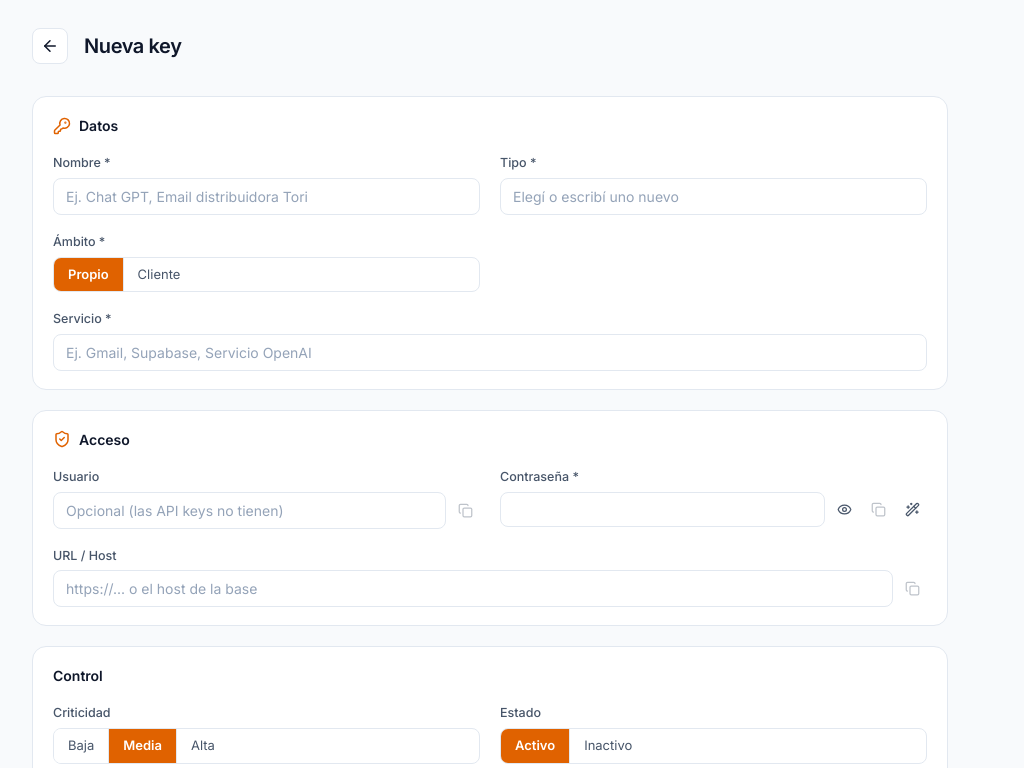
Test: KeyDetalle — alta (admin) › alta completa: guarda, refresca la lista y va a la ficha nueva
In the field labelled "Nombre": (266, 196) [53, 178, 480, 215], type "Chat GPT"
In the field labelled "Tipo": (714, 196) [500, 178, 927, 215], type "API"
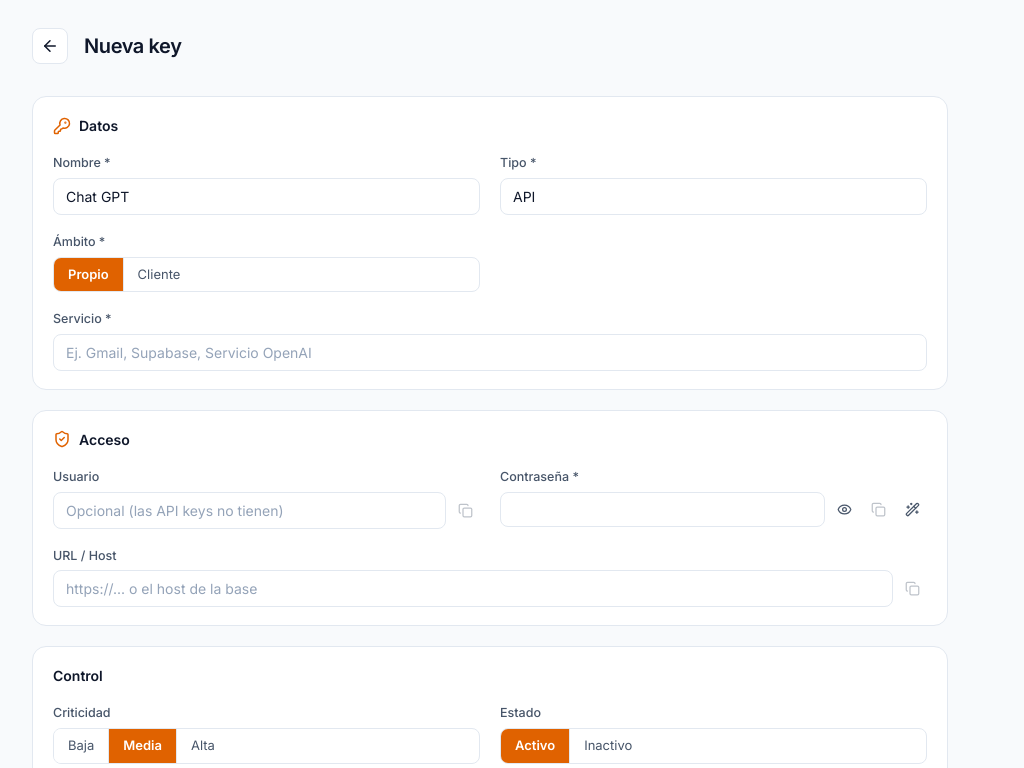
In the field labelled "Servicio": (490, 352) [53, 334, 927, 371], type "OpenAI"
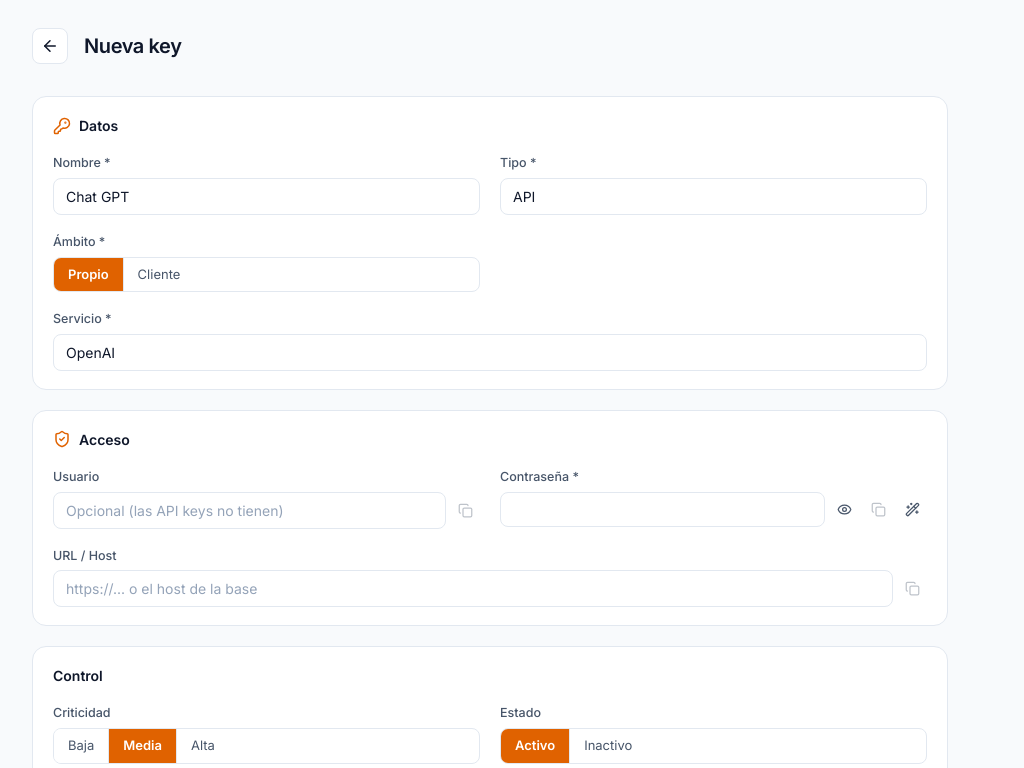
In the password field labelled "Contraseña": (662, 509) [500, 492, 825, 526], type "sk-1"
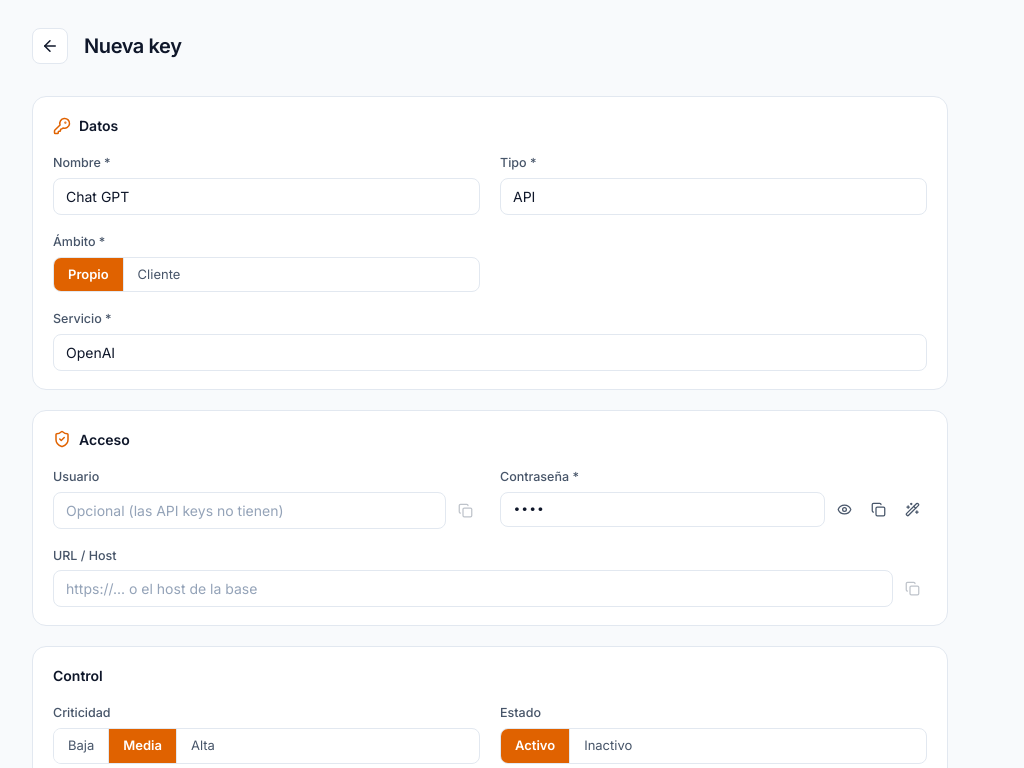
Click the button "Alta": (203, 746) [177, 729, 229, 762]
(page scrolled)
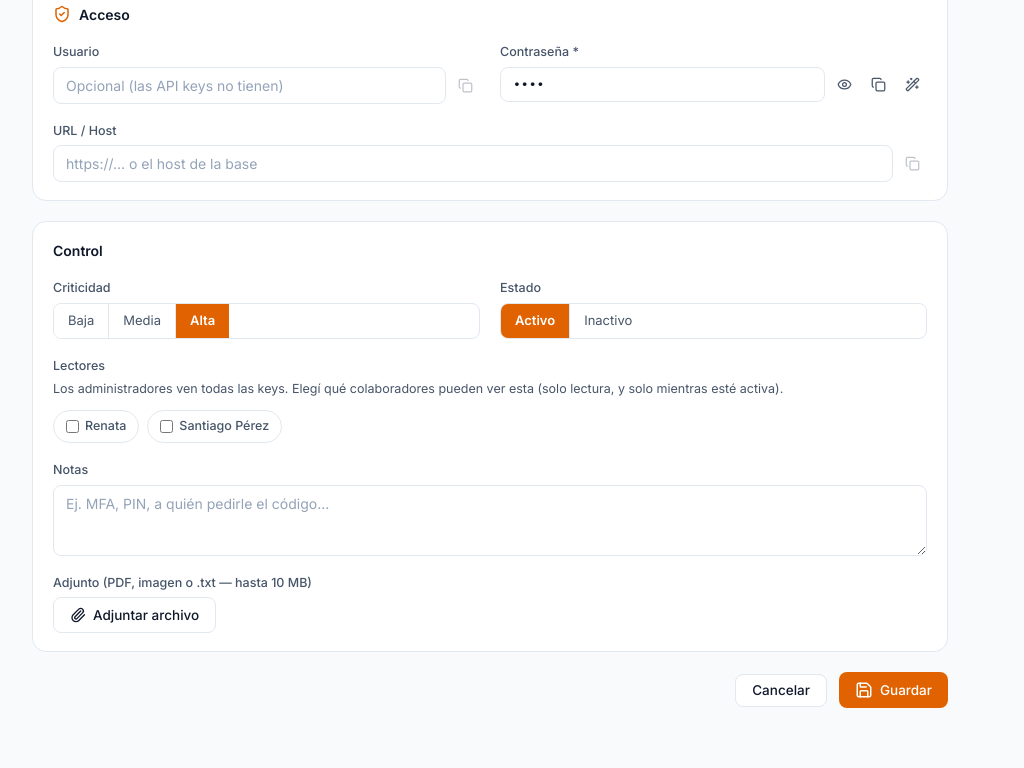
Click the checkbox labelled "Santiago Pérez": (167, 426) [160, 420, 173, 433]
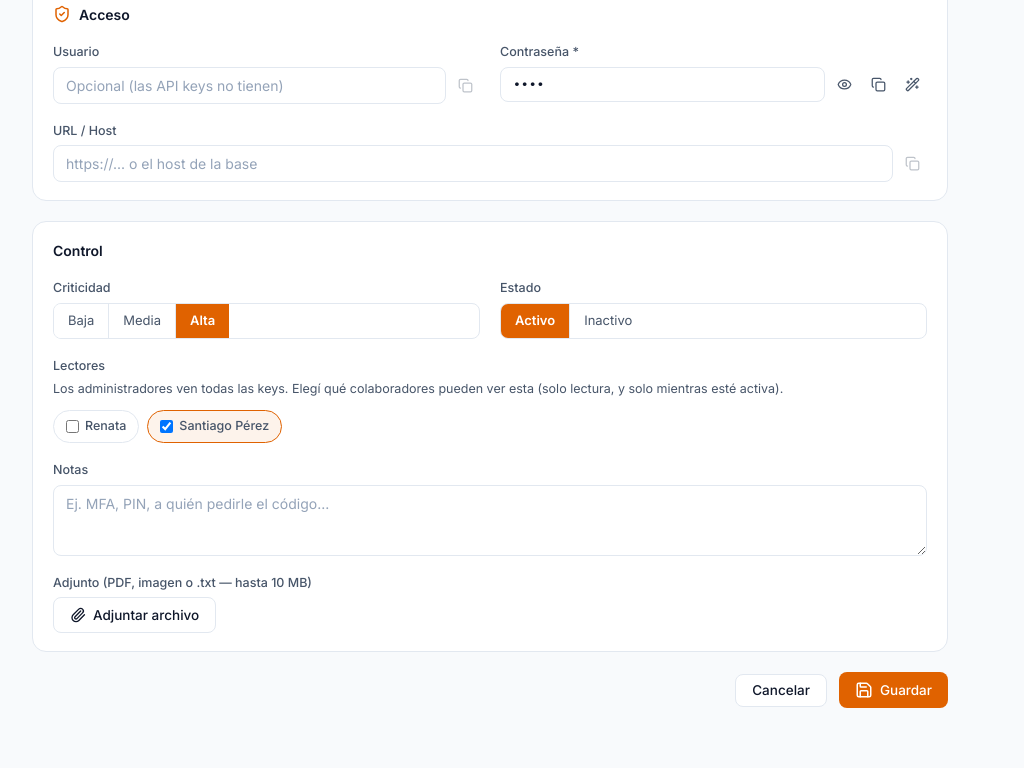
Click the button "Guardar": (893, 690) [839, 672, 948, 708]
(page scrolled)
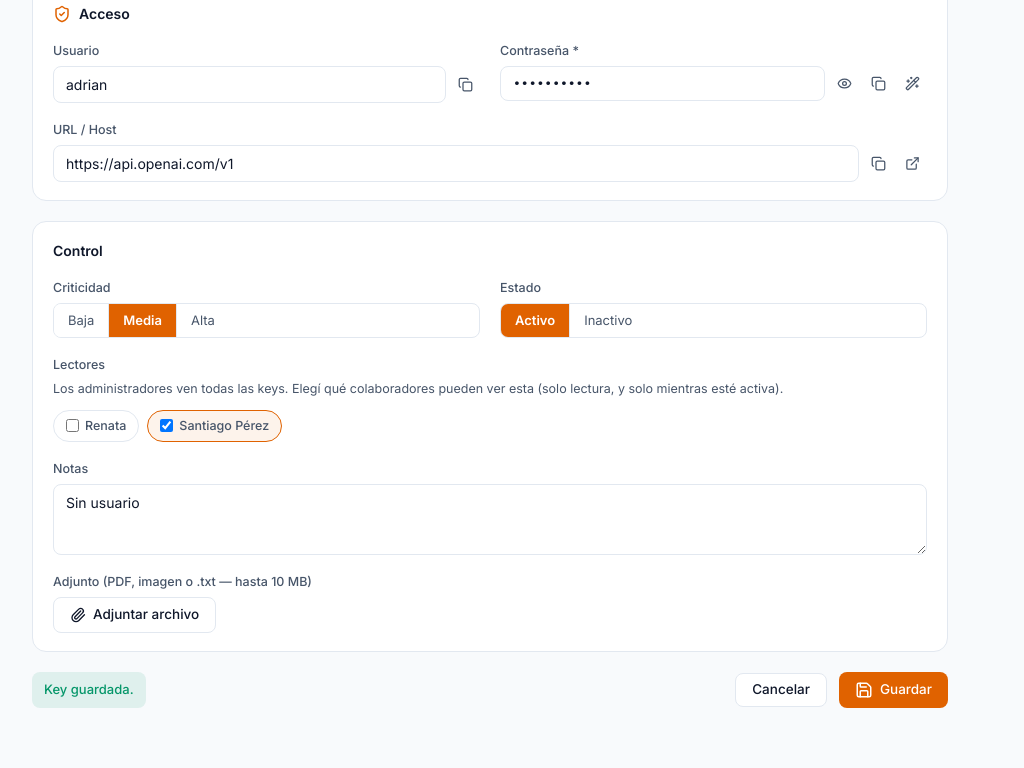
Now the text "Key guardada." is shown, box [32, 672, 146, 708]
